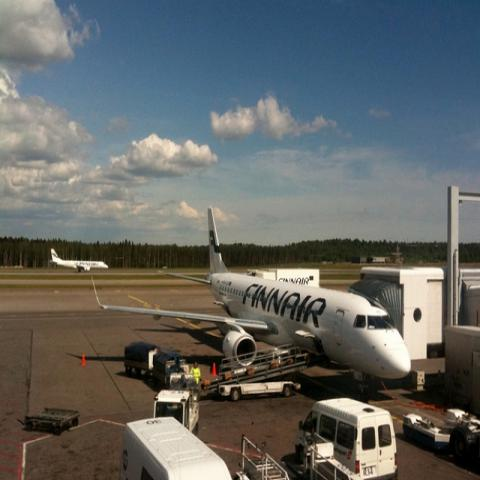car: (296, 396, 399, 479)
truck: (293, 390, 400, 479), (155, 390, 199, 432)
